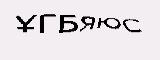Ұ: (14, 10, 39, 36)
